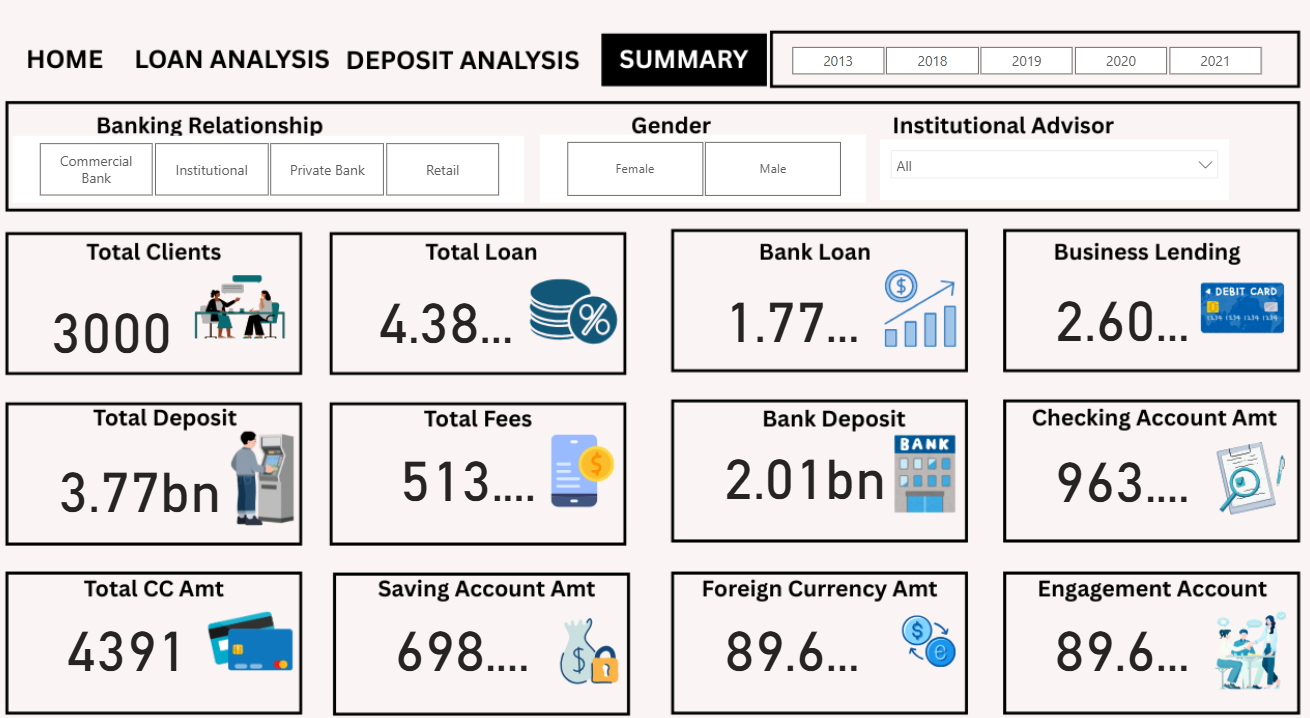

This screenshot's page, from the dashboard's own definition file:
{"tool":"powerbi","page":{"name":"Summary","canvas":[1280,720],"ordinal":3},"visuals":[{"type":"card","fields":{"Values":["Sum(Banking.Bank Deposits)"]},"box":[698.5,370.4,176.1,205.1],"z":0},{"type":"card","fields":{"Values":["Banking.Total Deposit"]},"box":[56.7,383.6,176.1,205.1],"z":1},{"type":"card","fields":{"Values":["CountNonNull(Banking.Name)"]},"box":[42.2,269,150.8,126.7],"z":3},{"type":"card","fields":{"Values":["Banking.Total loan"]},"box":[364.3,259.4,150.8,126.7],"z":4},{"type":"card","fields":{"Values":["Sum(Banking.Bank Loans)"]},"box":[698.5,258.2,150.8,126.7],"z":5},{"type":"card","fields":{"Values":["Sum(Banking.Business Lending)"]},"box":[1017,257,150.8,126.7],"z":6},{"type":"card","fields":{"Values":["Sum(Banking.Foreign Currency Account)"]},"box":[1017,575.5,150.8,126.7],"z":7},{"type":"card","fields":{"Values":["Sum(Banking.Checking Accounts)"]},"box":[1017,412.6,150.8,126.7],"z":8},{"type":"card","fields":{"Values":["Sum(Banking.Amount of Credit Cards)"]},"box":[56.7,575.5,150.8,126.7],"z":9},{"type":"card","fields":{"Values":["Sum(Banking.Saving Accounts)"]},"box":[380,575.5,150.8,126.7],"z":10},{"type":"card","fields":{"Values":["Sum(Banking.Estimated Income)"]},"box":[384.9,411.4,150.8,126.7],"z":11},{"type":"card","fields":{"Values":["Sum(Banking.Foreign Currency Account)"]},"box":[698.5,575.5,150.8,126.7],"z":12},{"type":"slicer","fields":{"Values":["Banking.BRId"]},"box":[22,148.8,493.9,64.6],"z":13},{"type":"slicer","fields":{"Values":["Banking.GenderId"]},"box":[530.5,147.6,314.6,65.9],"z":14},{"type":"slicer","fields":{"Values":["Banking.IAId"]},"box":[858.5,152.4,336.6,58.5],"z":15},{"type":"slicer","fields":{"Values":["Banking.Year of Joining"]},"box":[748,55.5,503.1,38.6],"z":16},{"type":"actionButton","box":[587.5,54.3,160.5,39.8],"z":17}]}

Visuals, with their boxes in screenshot pixels (x1, y1, x2, y2), scaled from the page's 1280x720 canvas onto the 1310x718 screenshot:
card - Sum(Banking.Bank Deposits): (left=715, top=369, right=895, bottom=574)
card - Banking.Total Deposit: (left=58, top=383, right=238, bottom=587)
card - CountNonNull(Banking.Name): (left=43, top=268, right=198, bottom=395)
card - Banking.Total loan: (left=373, top=259, right=527, bottom=385)
card - Sum(Banking.Bank Loans): (left=715, top=257, right=869, bottom=384)
card - Sum(Banking.Business Lending): (left=1041, top=256, right=1195, bottom=383)
card - Sum(Banking.Foreign Currency Account): (left=1041, top=574, right=1195, bottom=700)
card - Sum(Banking.Checking Accounts): (left=1041, top=411, right=1195, bottom=538)
card - Sum(Banking.Amount of Credit Cards): (left=58, top=574, right=212, bottom=700)
card - Sum(Banking.Saving Accounts): (left=389, top=574, right=543, bottom=700)
card - Sum(Banking.Estimated Income): (left=394, top=410, right=548, bottom=537)
card - Sum(Banking.Foreign Currency Account): (left=715, top=574, right=869, bottom=700)
slicer - Banking.BRId: (left=23, top=148, right=528, bottom=213)
slicer - Banking.GenderId: (left=543, top=147, right=865, bottom=213)
slicer - Banking.IAId: (left=879, top=152, right=1223, bottom=210)
slicer - Banking.Year of Joining: (left=766, top=55, right=1280, bottom=94)
actionButton: (left=601, top=54, right=766, bottom=94)
